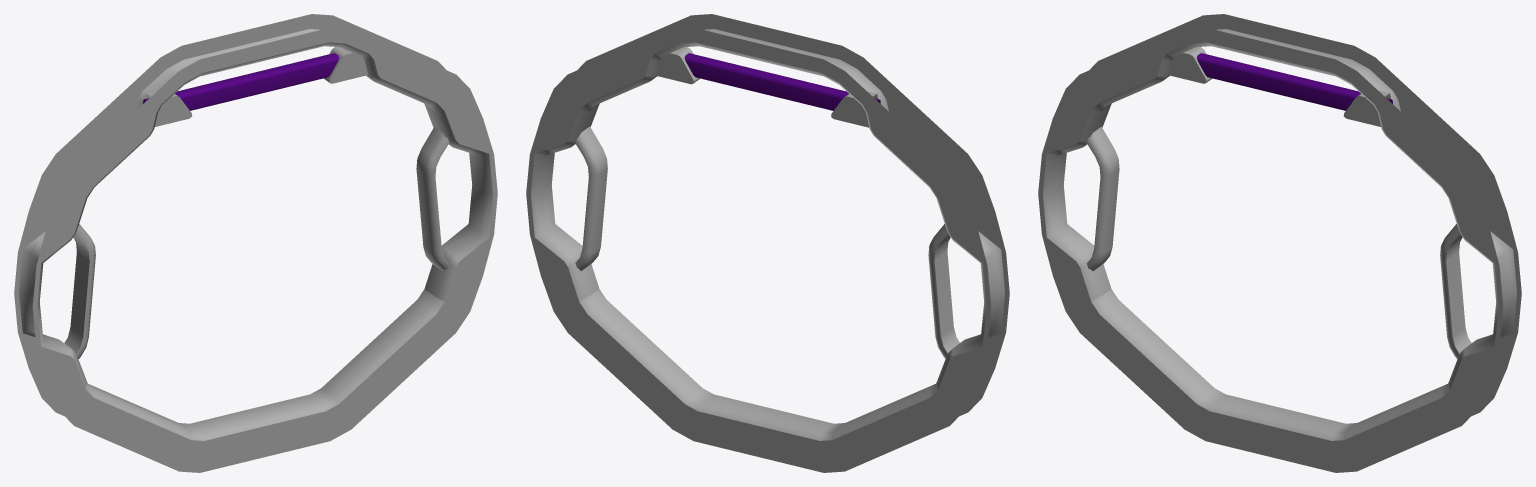
Rendered from CouloirAnneau.fbx.
3 renders of one model, left to right at view 1: azimuth 30°, elevation 25°; view 2: azimuth 150°, elevation 25°; view 3: azimuth 330°, elevation 25°, orthographic.
Visible parts, largest first — view 1: CouloirAnneau_low; view 2: CouloirAnneau_low; view 3: CouloirAnneau_low.
Boxes of the visible parts, box(x1,y1,x2,y2) form: CouloirAnneau_low: box(14, 14, 497, 472); CouloirAnneau_low: box(526, 14, 1009, 472); CouloirAnneau_low: box(1038, 14, 1521, 472).
Size of the model in its own units: 22 by 18.69 by 1.52.
